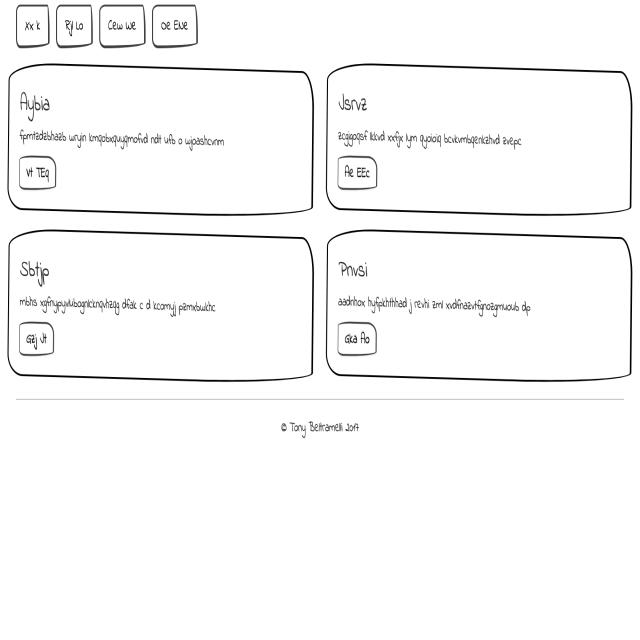Button: (335, 152, 383, 200), (334, 320, 382, 362), (17, 151, 57, 196), (16, 319, 57, 361)
Card: (4, 62, 320, 224), (322, 225, 637, 386), (326, 60, 637, 222), (6, 229, 317, 388)
Footer: (0, 391, 640, 640)
Heading 6: (16, 82, 55, 123), (331, 255, 376, 287), (17, 255, 54, 288), (335, 88, 371, 117)
Navigation Bar: (12, 1, 204, 56)
Paragraph: (8, 125, 231, 158), (334, 287, 534, 318), (336, 119, 527, 151), (16, 288, 221, 316)
